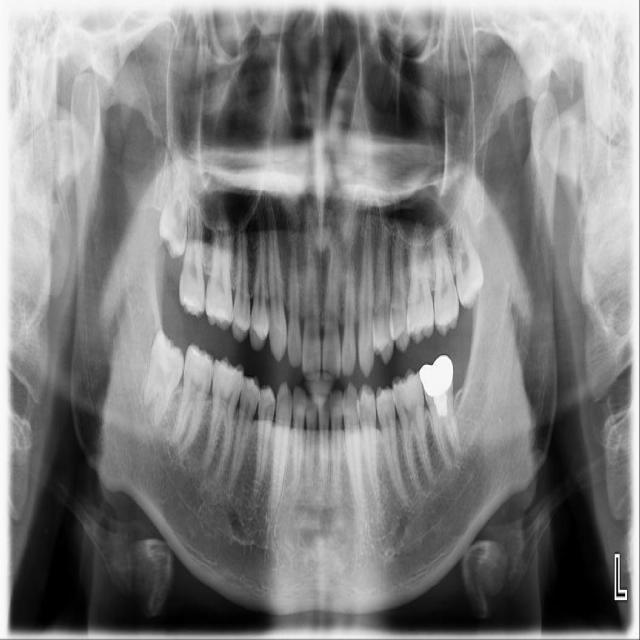Crown: (418, 355, 454, 399)
impacted tooth: (140, 331, 183, 427), (453, 208, 484, 311), (158, 150, 188, 252)
